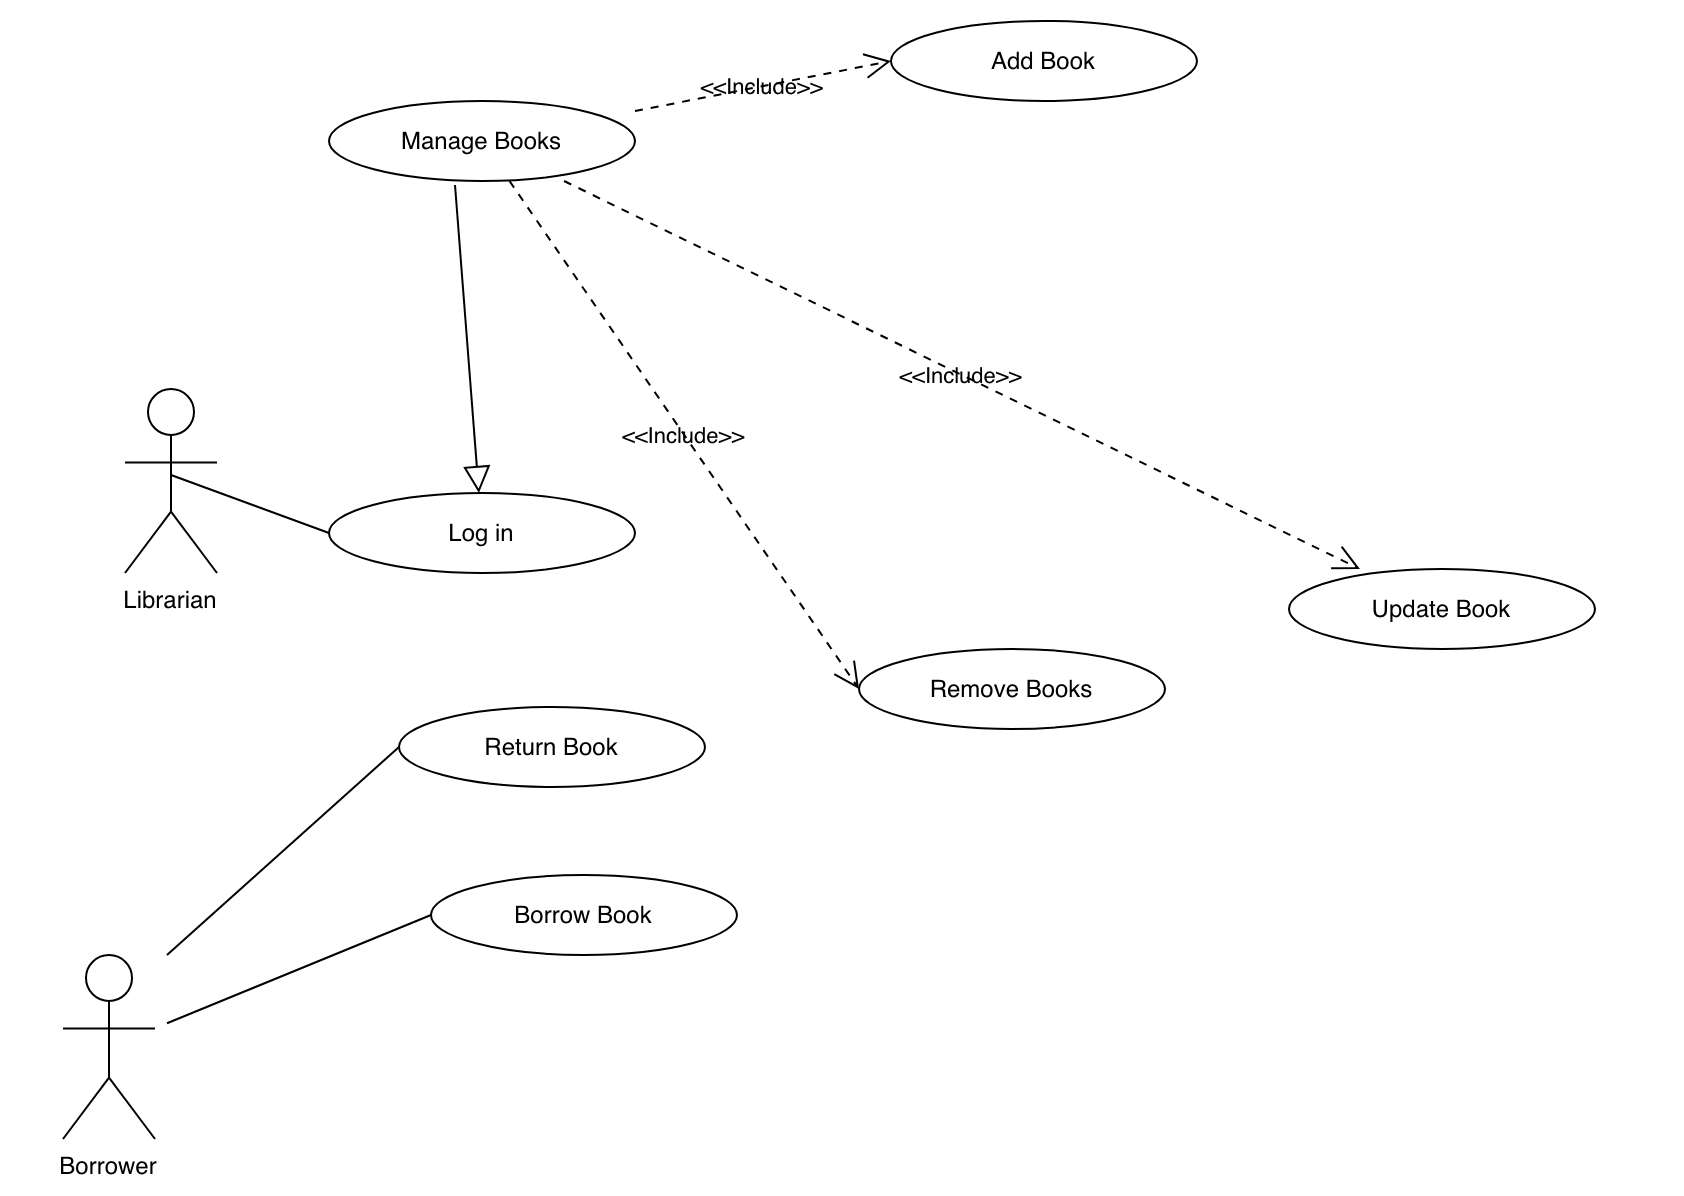actor: (122, 384, 225, 579), (63, 951, 163, 1143)
association: (560, 179, 1363, 573), (509, 179, 866, 691), (164, 740, 401, 954), (167, 914, 428, 1023), (632, 50, 888, 113), (450, 183, 493, 493), (173, 475, 326, 537)
text: (922, 674, 1105, 708), (397, 123, 570, 158), (480, 729, 632, 768), (1366, 592, 1517, 629), (891, 361, 1039, 396), (980, 39, 1107, 78), (511, 897, 658, 929), (699, 67, 827, 102), (616, 419, 749, 450), (438, 514, 533, 554), (50, 1149, 164, 1180), (120, 584, 224, 617)
use_case: (395, 702, 709, 793), (326, 97, 637, 186), (325, 491, 638, 579), (428, 870, 742, 958), (856, 645, 1169, 733), (1284, 566, 1599, 652), (891, 18, 1199, 105)
